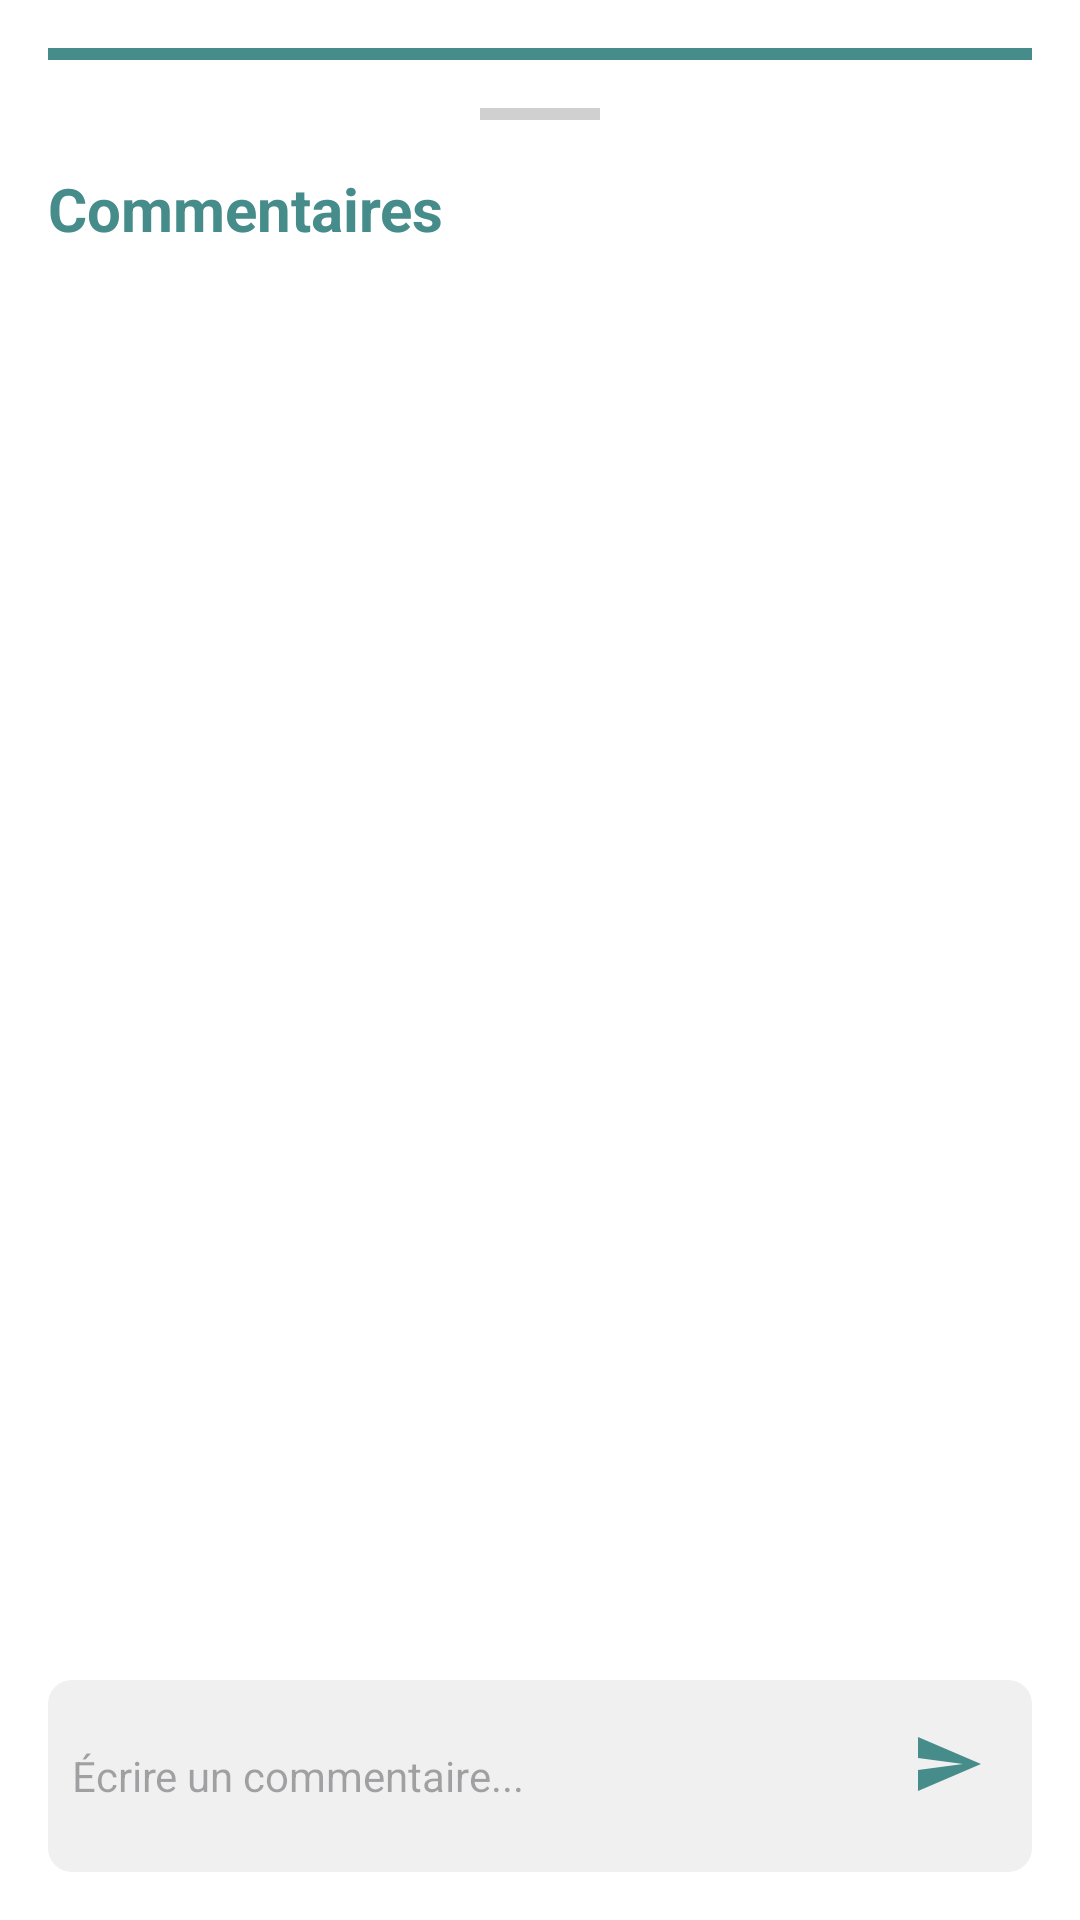

Where to tap for icons on this 1080 x 1920 app screen, as [x,y]:
Envoyer le commentaire: [949,1764]
